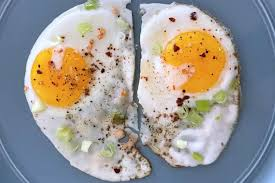Telur ceplok: (23, 2, 137, 182), (139, 3, 246, 169)
